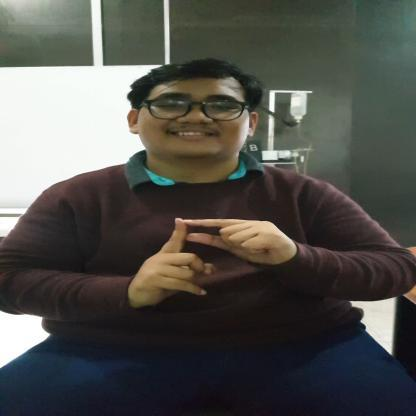P: (129, 217, 292, 308)
